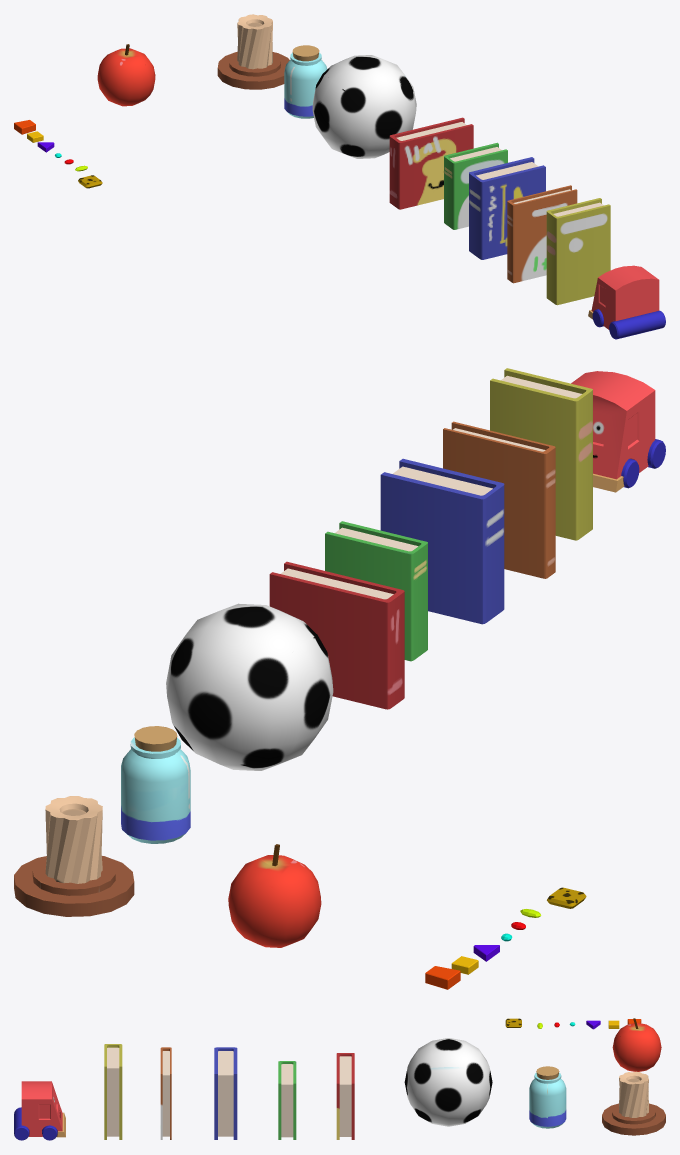
3 views of the same model, one above another, from view 1: azimuth 30°, elevation 25°; view 2: azimuth 150°, elevation 25°; view 3: azimuth 270°, elevation 25° (orthographic). The views are drawn at different scales.
Parts seen in each view (by area): view 1: 큐브.008, Cube.005, Cube.001, Cube.003, 실린더, Cube.004, 실린더.001, Cube.002, 큐브.009, 실린더.004; view 2: 큐브.008, Cube.003, Cube.001, Cube.004, Cube.005, 실린더.001, 실린더.004, 실린더, Cube.002, 큐브.009; view 3: 큐브.008, 실린더.001, 실린더, Cube.003, 실린더.004, 큐브.009, Cube.005, Cube.001, Cube.002, Cube.004.
Part boxes in pixels (bbox=[...]): 큐브.008: bbox=[312, 55, 416, 158]; Cube.005: bbox=[546, 198, 610, 305]; Cube.001: bbox=[389, 117, 473, 209]; Cube.003: bbox=[469, 157, 545, 259]; 실린더: bbox=[588, 265, 665, 339]; Cube.004: bbox=[507, 185, 577, 283]; 실린더.001: bbox=[217, 14, 289, 89]; Cube.002: bbox=[444, 142, 507, 229]; 큐브.009: bbox=[97, 44, 155, 106]; 실린더.004: bbox=[284, 45, 327, 118]; 큐브.008: bbox=[166, 603, 333, 770]; Cube.003: bbox=[380, 458, 504, 624]; Cube.001: bbox=[269, 561, 404, 709]; Cube.004: bbox=[443, 421, 555, 578]; Cube.005: bbox=[490, 368, 592, 540]; 실린더.001: bbox=[14, 796, 134, 916]; 실린더.004: bbox=[121, 726, 190, 843]; 실린더: bbox=[571, 371, 665, 492]; Cube.002: bbox=[325, 521, 427, 661]; 큐브.009: bbox=[228, 844, 321, 947]; 큐브.008: bbox=[404, 1038, 492, 1126]; 실린더.001: bbox=[602, 1071, 665, 1135]; 실린더: bbox=[14, 1081, 65, 1140]; Cube.003: bbox=[214, 1047, 237, 1139]; 실린더.004: bbox=[529, 1066, 566, 1128]; 큐브.009: bbox=[612, 1018, 661, 1071]; Cube.005: bbox=[104, 1044, 122, 1139]; Cube.001: bbox=[336, 1053, 354, 1139]; Cube.002: bbox=[278, 1061, 296, 1139]; Cube.004: bbox=[160, 1047, 171, 1139].
Bounding box in the file's own units: 3859 × 1203 × 8873.
